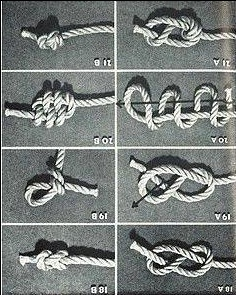9/可回收垃圾/绳子: (124, 82, 235, 130), (130, 158, 236, 205), (24, 150, 98, 208), (5, 88, 115, 127), (129, 240, 236, 279), (132, 15, 236, 47), (21, 23, 115, 50), (18, 249, 115, 271)
